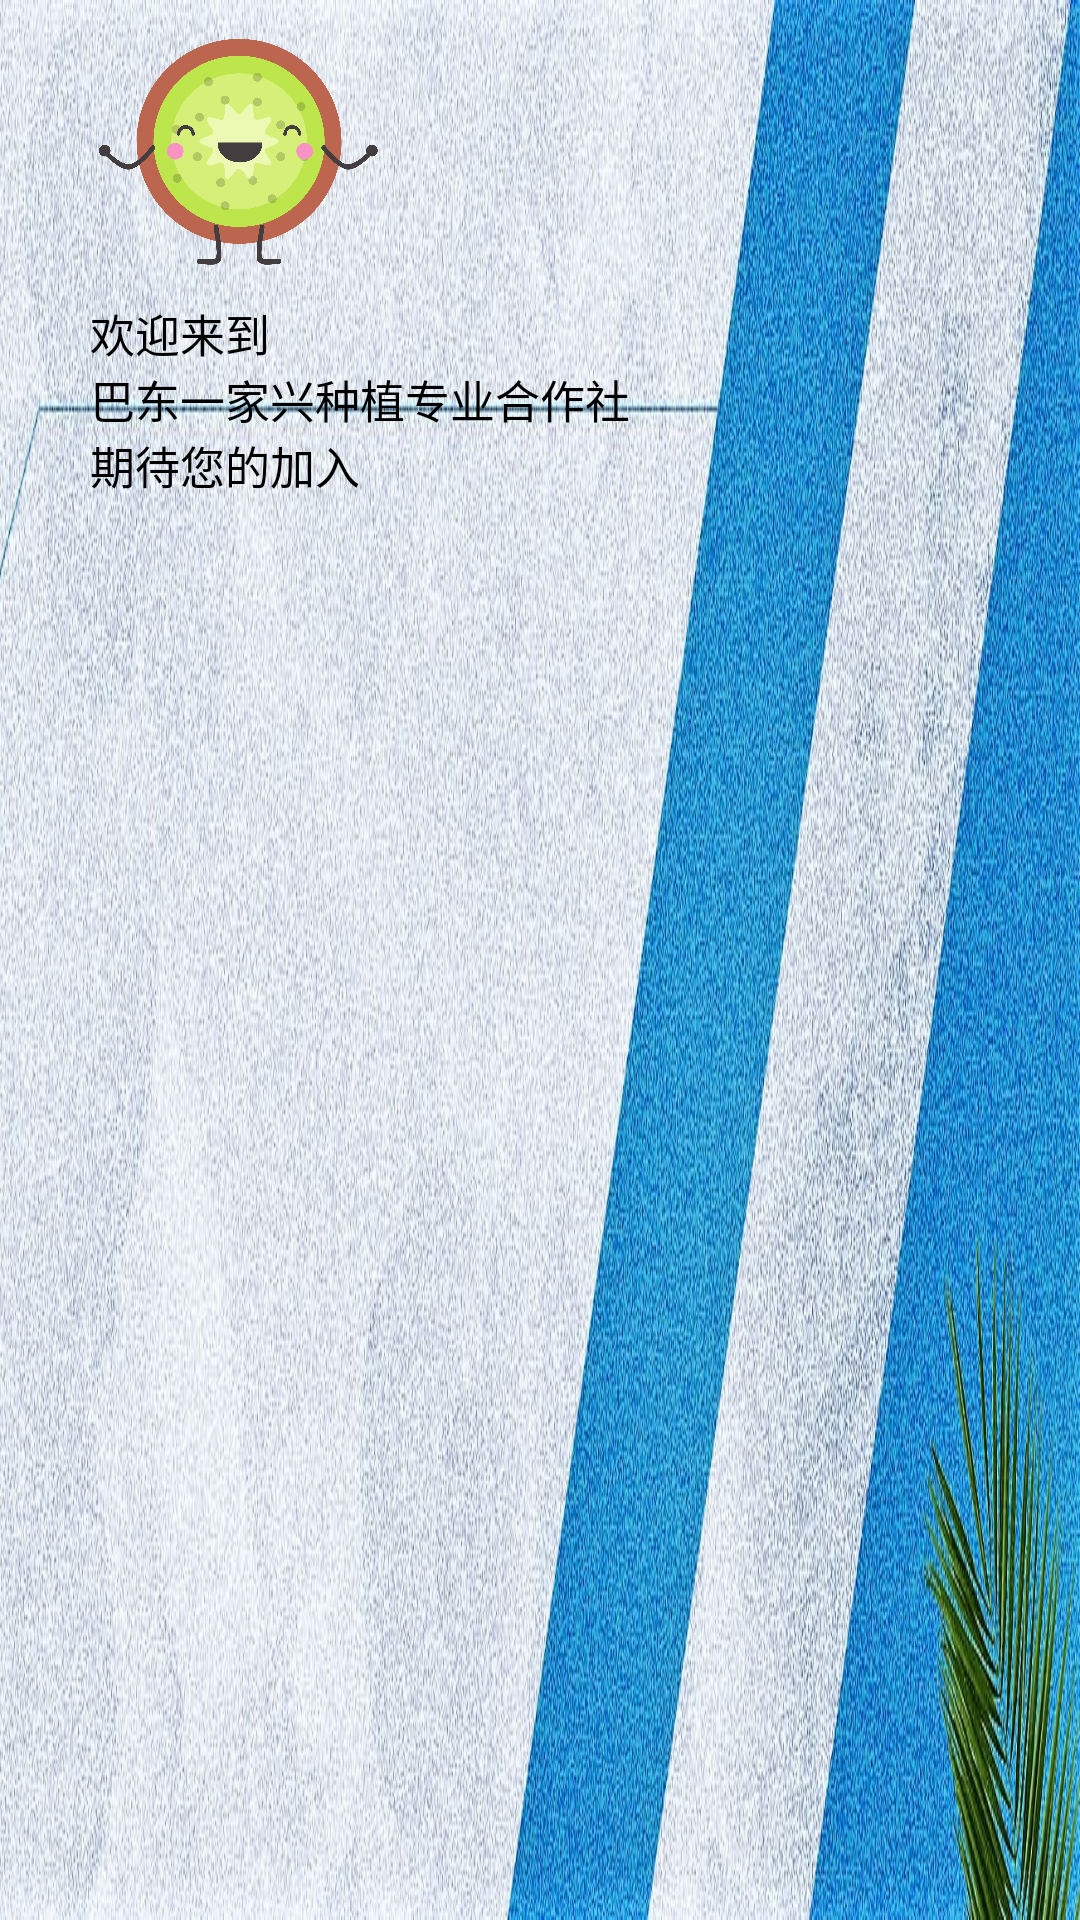

Where icons sit on this 1080*1920 app screen, as (x1,y1,x2,y2):
kiwifruit: (90,0,390,300)
